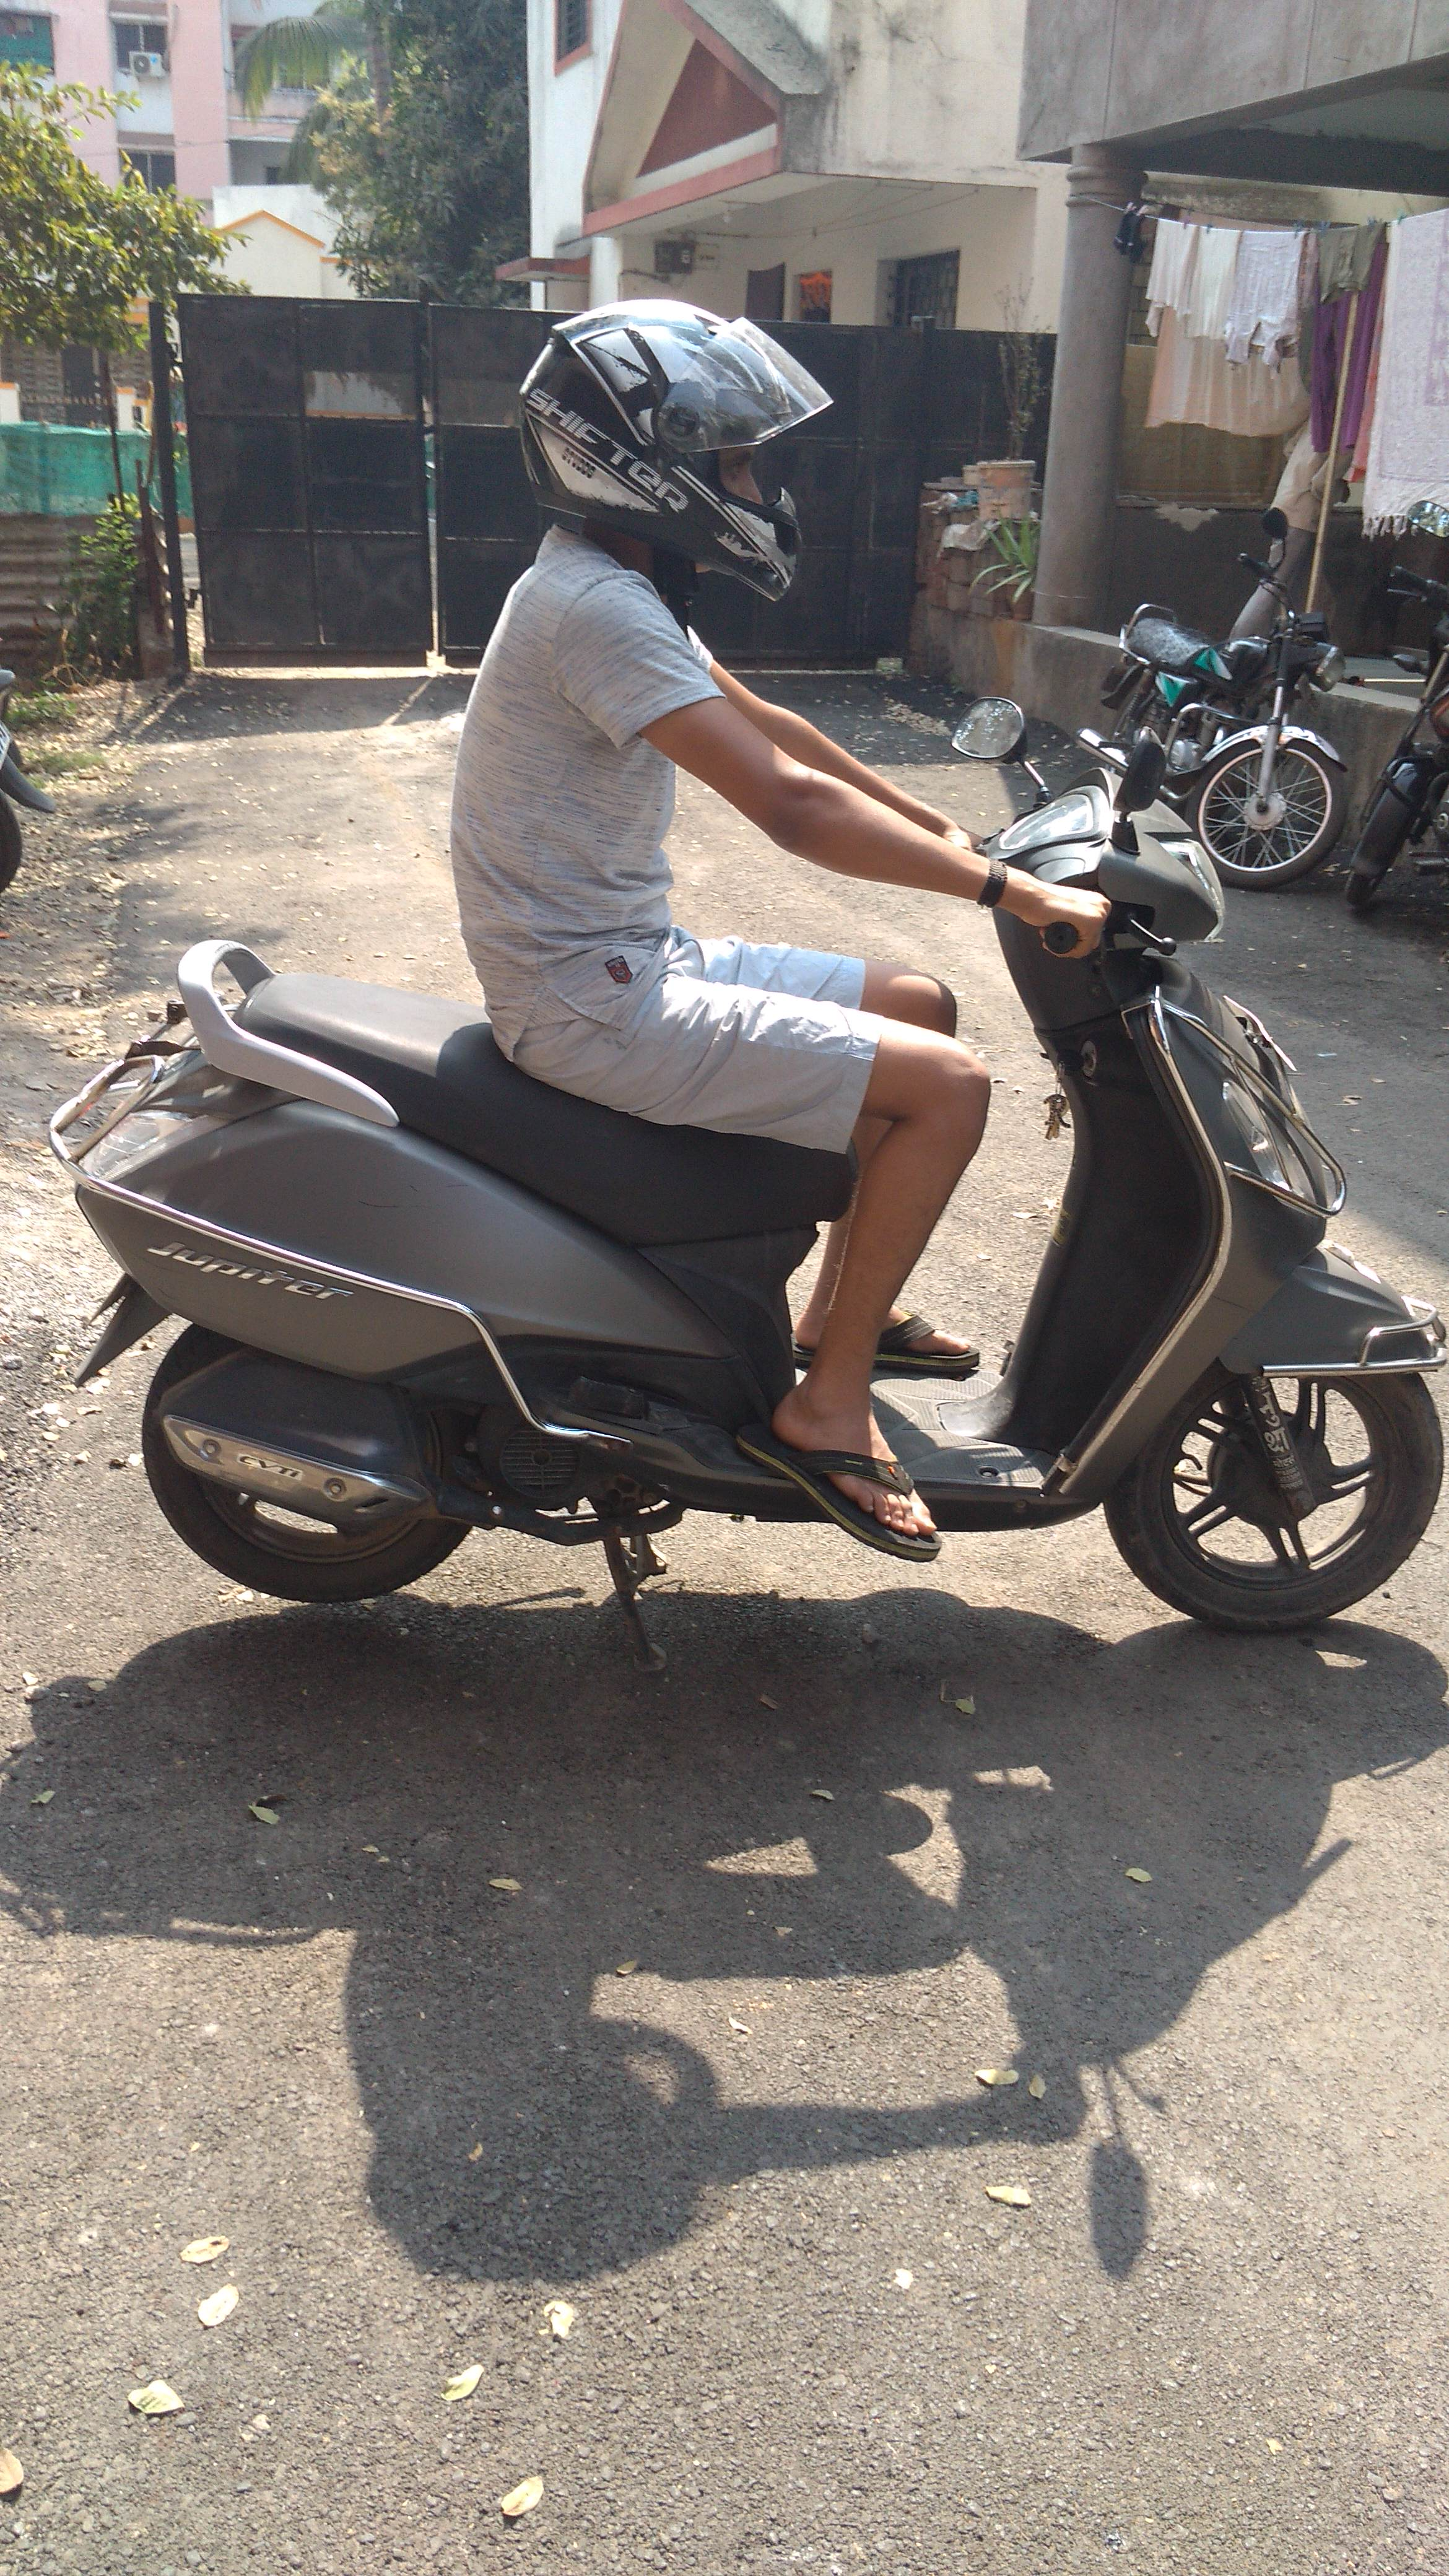helmet: (419, 288, 1187, 1502)
